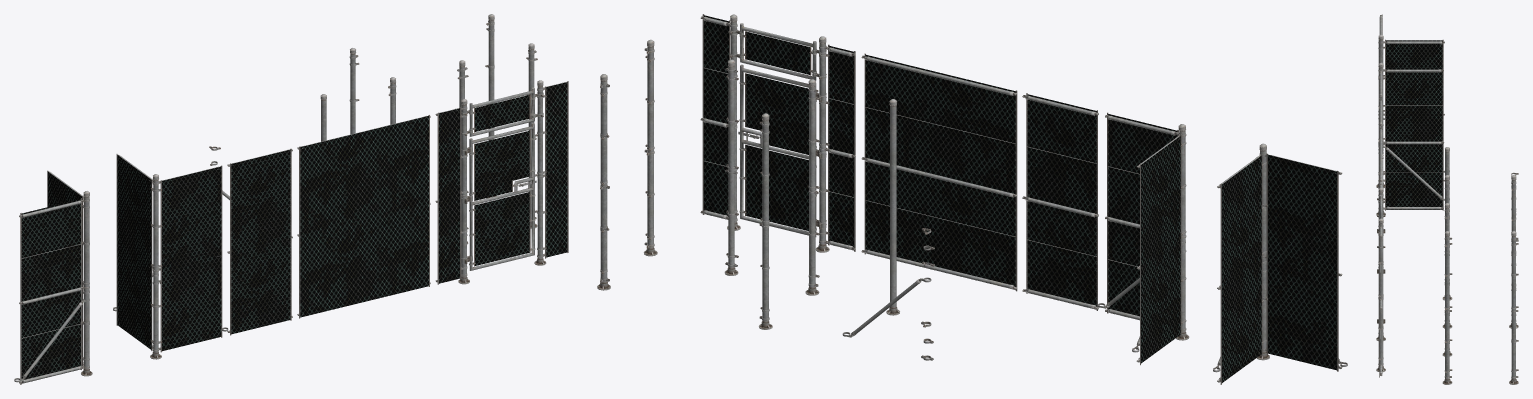
The model's file is modular_chainlink_fence.glb.
The picture shows the model from 3 angles, left to right: view 1: azimuth 30°, elevation 25°; view 2: azimuth 150°, elevation 25°; view 3: azimuth 270°, elevation 25°; orthographic projection. The views are drawn at different scales.
Visible parts, largest first — view 1: modular_chainlink_fence_double_mesh, modular_chainlink_fence_corner_outer_mesh, modular_chainlink_fence_door_frame_mesh, modular_chainlink_fence_corner_inner_mesh, modular_chainlink_fence_mesh, modular_chainlink_fence_door_gate_mesh, modular_chainlink_fence_start_01_corner_02_mesh, modular_chainlink_fence_start_01_corner_01_mesh, modular_chainlink_fence_end_02_mesh; view 2: modular_chainlink_fence_double_mesh, modular_chainlink_fence_corner_inner_mesh, modular_chainlink_fence_corner_outer_mesh, modular_chainlink_fence_door_frame_mesh, modular_chainlink_fence_mesh, modular_chainlink_fence_door_gate_mesh, modular_chainlink_fence_start_01_corner_02_mesh, modular_chainlink_post_middle_mesh, modular_chainlink_fence_end_01_mesh, modular_chainlink_fence_start_01_corner_01_mesh, modular_chainlink_fence_end_02_mesh, modular_chainlink_fence_post_mesh; view 3: modular_chainlink_fence_corner_outer_mesh, modular_chainlink_fence_corner_inner_mesh, modular_chainlink_fence_door_frame_mesh, modular_chainlink_fence_start_01_corner_02_mesh, modular_chainlink_fence_start_01_corner_01_mesh, modular_chainlink_fence_end_02_mesh, modular_chainlink_fence_double_mesh, modular_chainlink_post_middle_mesh, modular_chainlink_fence_end_01_mesh, modular_chainlink_fence_post_mesh.
Part boxes in pixels (x1,y1,x2,y2): modular_chainlink_fence_double_mesh: (297, 115, 430, 318); modular_chainlink_fence_corner_outer_mesh: (113, 154, 228, 359); modular_chainlink_fence_door_frame_mesh: (435, 80, 568, 284); modular_chainlink_fence_corner_inner_mesh: (14, 170, 92, 384); modular_chainlink_fence_mesh: (227, 148, 292, 335); modular_chainlink_fence_door_gate_mesh: (469, 123, 535, 270); modular_chainlink_fence_start_01_corner_02_mesh: (485, 14, 496, 198); modular_chainlink_fence_start_01_corner_01_mesh: (526, 43, 537, 228); modular_chainlink_fence_end_02_mesh: (349, 48, 359, 134); modular_chainlink_fence_double_mesh: (861, 53, 1017, 291); modular_chainlink_fence_corner_inner_mesh: (1213, 143, 1347, 384); modular_chainlink_fence_corner_outer_mesh: (1097, 112, 1189, 365); modular_chainlink_fence_door_frame_mesh: (700, 14, 855, 252); modular_chainlink_fence_mesh: (1022, 93, 1098, 310); modular_chainlink_fence_door_gate_mesh: (739, 64, 816, 236); modular_chainlink_fence_start_01_corner_02_mesh: (597, 74, 610, 290); modular_chainlink_post_middle_mesh: (724, 59, 738, 275); modular_chainlink_fence_end_01_mesh: (805, 79, 819, 295); modular_chainlink_fence_start_01_corner_01_mesh: (643, 39, 657, 256); modular_chainlink_fence_end_02_mesh: (758, 113, 772, 329); modular_chainlink_fence_post_mesh: (886, 99, 899, 315); modular_chainlink_fence_corner_outer_mesh: (1376, 62, 1449, 215); modular_chainlink_fence_corner_inner_mesh: (1376, 14, 1449, 188); modular_chainlink_fence_door_frame_mesh: (1376, 182, 1385, 377); modular_chainlink_fence_start_01_corner_02_mesh: (1509, 231, 1518, 384); modular_chainlink_fence_start_01_corner_01_mesh: (1442, 231, 1452, 384); modular_chainlink_fence_end_02_mesh: (1509, 175, 1518, 328); modular_chainlink_fence_double_mesh: (1379, 126, 1382, 183); modular_chainlink_post_middle_mesh: (1442, 203, 1452, 356); modular_chainlink_fence_end_01_mesh: (1442, 175, 1452, 328); modular_chainlink_fence_post_mesh: (1442, 147, 1452, 300).
Bounding box in the file's own units: 8.11 × 2.52 × 2.15.
Materials: 2 (2 with a texture image).
